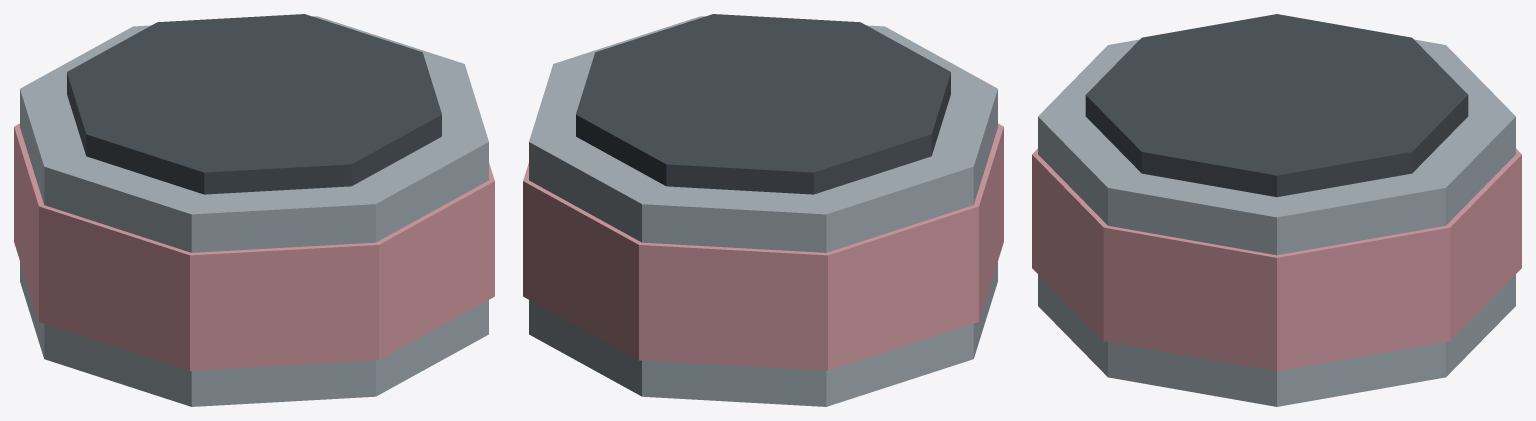
File: FD_CatFoodTin_01.glb
The picture shows the model from 3 angles, left to right: view 1: azimuth 30°, elevation 25°; view 2: azimuth 150°, elevation 25°; view 3: azimuth 270°, elevation 25°; orthographic projection.
Visible parts, largest first — view 1: FD_CatFoodTin_01; view 2: FD_CatFoodTin_01; view 3: FD_CatFoodTin_01.
Part boxes in pixels (x1,y1,x2,y2): FD_CatFoodTin_01: [14, 14, 494, 406]; FD_CatFoodTin_01: [523, 14, 1003, 406]; FD_CatFoodTin_01: [1032, 14, 1521, 406].
Bounding box in the file's own units: 0.082 × 0.039 × 0.082.
Materials: 1 (1 with a texture image).
